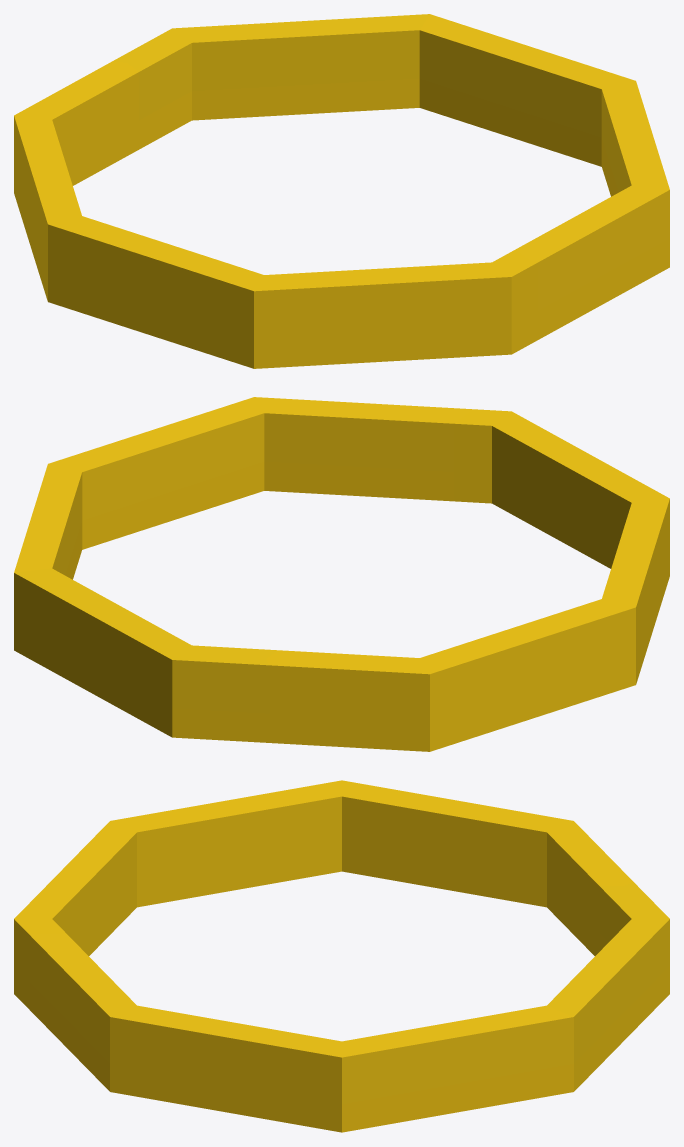
File: Ring-small.obj
3 views of the same model, one above another, from view 1: azimuth 30°, elevation 25°; view 2: azimuth 150°, elevation 25°; view 3: azimuth 270°, elevation 25° (orthographic). The views are drawn at different scales.
Visible parts, largest first — view 1: pTorus1; view 2: pTorus1; view 3: pTorus1.
Part boxes in pixels (x1=…): pTorus1: x1=14, y1=14, x2=669, y2=368; pTorus1: x1=14, y1=397, x2=669, y2=751; pTorus1: x1=14, y1=780, x2=669, y2=1132.
Size of the model in its own units: 7.92 by 1 by 7.92.
1 material, 1 textured.
